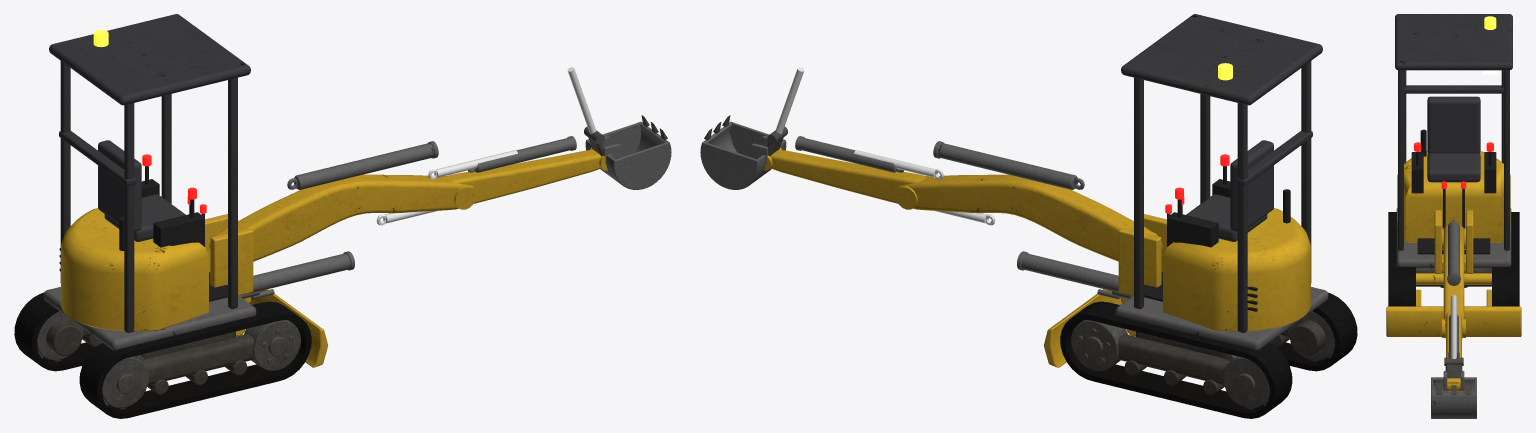
Rendered from minidigger_used.glb.
3 renders of one model, left to right at view 1: azimuth 30°, elevation 25°; view 2: azimuth 150°, elevation 25°; view 3: azimuth 270°, elevation 25°, orthographic. The views are drawn at different scales.
Visible parts, largest first — view 1: Canopy, HouseBody, TrackBand, BoomBody, Undercarriage, StickBody, BucketBody, Seat, Deck, BoomMount, StickRam, Controls (+7 smaller); view 2: Canopy, HouseBody, TrackBand, BoomBody, Undercarriage, StickBody, BucketBody, Seat, Deck, BoomMount, StickRam, Controls (+7 smaller); view 3: Canopy, HouseBody, Seat, BladeBody, TrackBand, Controls, BucketBody, Deck, BoomBody, BoomMount, StickRam, StickBody (+8 smaller).
Boxes of the visible parts, box(x1,y1,x2,y2) form: Canopy: box(49, 14, 250, 332); HouseBody: box(61, 208, 208, 331); TrackBand: box(14, 292, 311, 418); BoomBody: box(209, 174, 475, 261); Undercarriage: box(46, 320, 253, 394); StickBody: box(445, 147, 612, 203); BucketBody: box(585, 121, 671, 189); Seat: box(98, 140, 185, 241); Deck: box(43, 287, 256, 350); BoomMount: box(205, 214, 253, 296); StickRam: box(287, 141, 438, 189); Controls: box(141, 166, 227, 301); Canopy: box(1121, 14, 1322, 332); HouseBody: box(1163, 208, 1310, 331); TrackBand: box(1060, 292, 1357, 418); BoomBody: box(896, 174, 1162, 261); Undercarriage: box(1118, 320, 1325, 394); StickBody: box(764, 147, 926, 203); BucketBody: box(700, 121, 786, 189); Seat: box(1186, 140, 1273, 241); Deck: box(1115, 287, 1328, 350); BoomMount: box(1118, 214, 1166, 296); StickRam: box(933, 141, 1084, 189); Controls: box(1144, 166, 1230, 301); Canopy: box(1395, 14, 1512, 250); HouseBody: box(1397, 151, 1510, 242); Seat: box(1427, 96, 1480, 182); BladeBody: box(1386, 273, 1521, 336); TrackBand: box(1388, 212, 1519, 306); Controls: box(1411, 152, 1496, 254); BucketBody: box(1431, 371, 1476, 418); Deck: box(1396, 208, 1511, 267); BoomBody: box(1442, 224, 1465, 338); BoomMount: box(1434, 210, 1473, 273); StickRam: box(1447, 220, 1460, 285); StickBody: box(1443, 311, 1464, 391).
Size of the model in its own units: 4.59 by 2.4 by 1.12.
11 materials, 5 textured.
